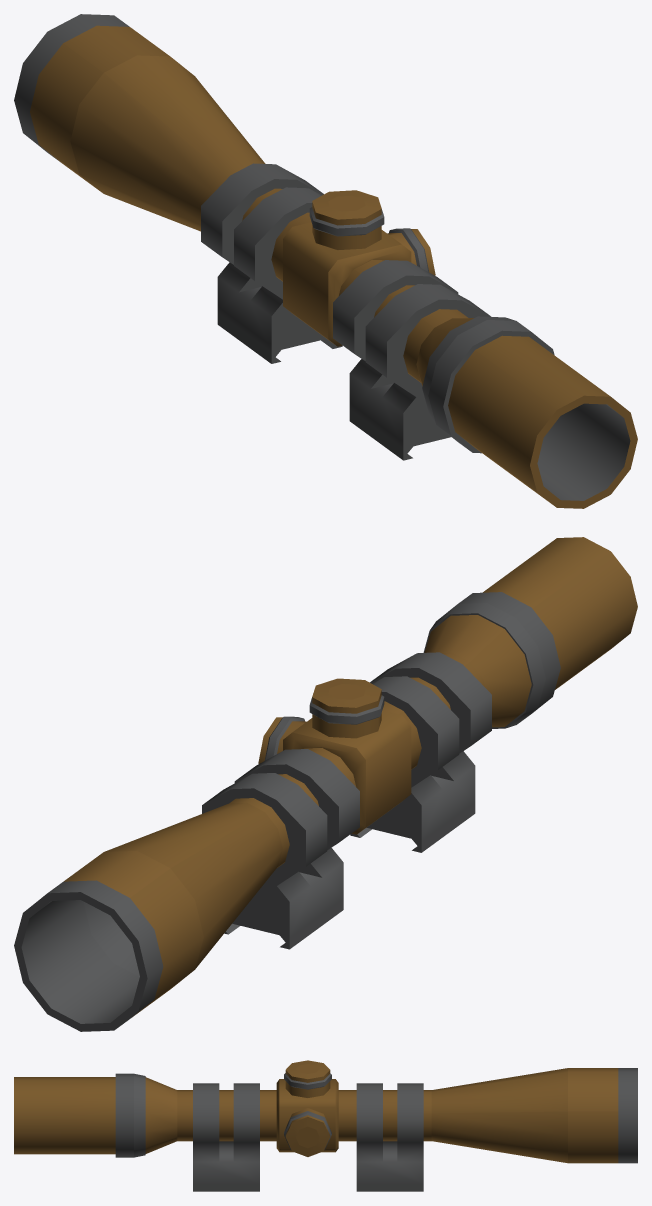
Rendered from TAN_LR_Scope_01Fix.fbx.
3 renders of one model, top to bottom at view 1: azimuth 30°, elevation 25°; view 2: azimuth 150°, elevation 25°; view 3: azimuth 270°, elevation 25°, orthographic. The views are drawn at different scales.
Parts seen in each view (by area): view 1: TAN_LR_Scope_01, Rings; view 2: TAN_LR_Scope_01, Rings; view 3: TAN_LR_Scope_01, Rings.
Boxes of the visible parts, x1,y1,x2,y2 form: TAN_LR_Scope_01: (14, 14, 637, 508); Rings: (201, 163, 491, 460); TAN_LR_Scope_01: (14, 537, 637, 1031); Rings: (202, 652, 491, 949); TAN_LR_Scope_01: (14, 1060, 637, 1163); Rings: (193, 1083, 423, 1191).
Bounding box in the file's own units: 9.38 × 11.67 × 58.94.
